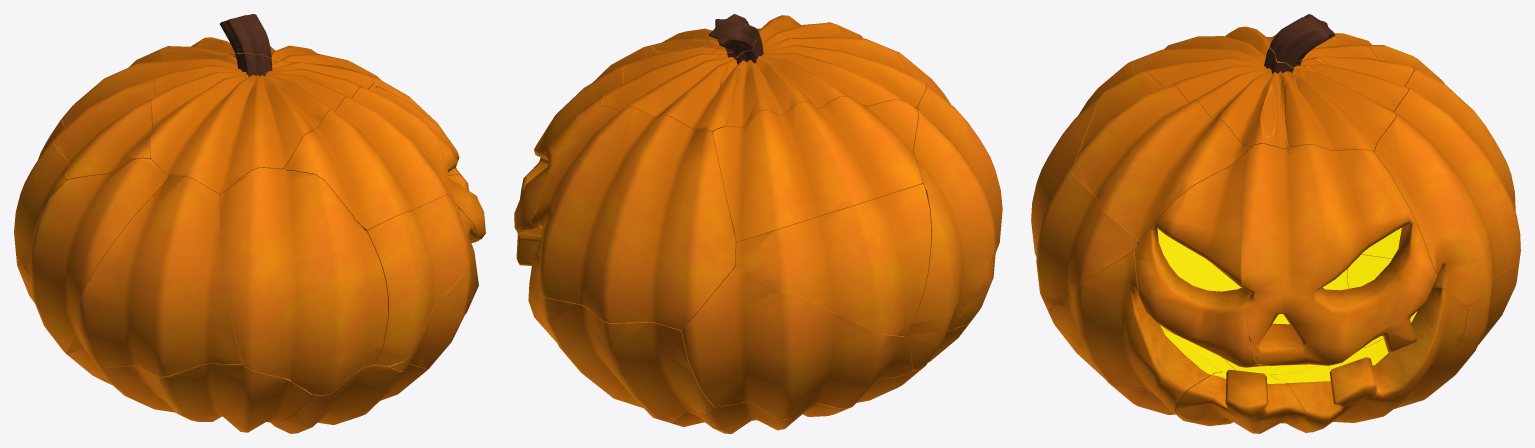
The model's file is Pumpkin_pieces.glb.
The picture shows the model from 3 angles, left to right: view 1: azimuth 30°, elevation 25°; view 2: azimuth 150°, elevation 25°; view 3: azimuth 270°, elevation 25°; orthographic projection. The views are drawn at different scales.
Parts seen in each view (by area): view 1: inner material_cell.005, inner material_cell.020, inner material_cell, inner material_cell.007, inner material_cell.021, inner material_cell.009, inner material_cell.002, inner material_cell.018, inner material_cell.006, inner material_cell.004, inner material_cell.001, inner material_cell.015 (+4 smaller); view 2: inner material_cell.012, inner material_cell.003, inner material_cell.018, inner material_cell.001, inner material_cell, inner material_cell.021, inner material_cell.013, inner material_cell.008, inner material_cell.010, inner material_cell.020, inner material_cell.019, inner material_cell.024 (+5 smaller); view 3: inner material_cell.010, inner material_cell.012, inner material_cell.007, inner material_cell.015, inner material_cell.004, inner material_cell, inner material_cell.016, inner material_cell.008, inner material_cell.009, inner material_cell.017, inner material_cell.005, inner material_cell.013 (+9 smaller).
Part boxes in pixels (x1=…): inner material_cell.005: x1=219, y1=167, x2=387, y2=395; inner material_cell.020: x1=77, y1=176, x2=242, y2=376; inner material_cell: x1=150, y1=55, x2=373, y2=194; inner material_cell.007: x1=283, y1=84, x2=451, y2=230; inner material_cell.021: x1=30, y1=158, x2=169, y2=353; inner material_cell.009: x1=367, y1=195, x2=469, y2=366; inner material_cell.002: x1=66, y1=349, x2=311, y2=432; inner material_cell.018: x1=53, y1=49, x2=162, y2=179; inner material_cell.006: x1=267, y1=364, x2=428, y2=433; inner material_cell.004: x1=389, y1=205, x2=478, y2=371; inner material_cell.001: x1=14, y1=119, x2=69, y2=278; inner material_cell.015: x1=376, y1=86, x2=485, y2=242; inner material_cell.012: x1=530, y1=105, x2=737, y2=329; inner material_cell.003: x1=681, y1=265, x2=912, y2=419; inner material_cell.018: x1=712, y1=96, x2=922, y2=241; inner material_cell.001: x1=735, y1=184, x2=931, y2=336; inner material_cell: x1=645, y1=19, x2=926, y2=127; inner material_cell.021: x1=899, y1=108, x2=994, y2=370; inner material_cell.013: x1=541, y1=295, x2=713, y2=423; inner material_cell.008: x1=602, y1=46, x2=737, y2=133; inner material_cell.010: x1=514, y1=45, x2=649, y2=230; inner material_cell.020: x1=916, y1=85, x2=1002, y2=330; inner material_cell.019: x1=672, y1=402, x2=835, y2=433; inner material_cell.024: x1=709, y1=14, x2=760, y2=56; inner material_cell.010: x1=1241, y1=143, x2=1437, y2=365; inner material_cell.012: x1=1374, y1=69, x2=1520, y2=308; inner material_cell.007: x1=1069, y1=70, x2=1250, y2=240; inner material_cell.015: x1=1134, y1=151, x2=1257, y2=367; inner material_cell.004: x1=1048, y1=251, x2=1221, y2=413; inner material_cell: x1=1133, y1=26, x2=1378, y2=148; inner material_cell.016: x1=1269, y1=287, x2=1467, y2=432; inner material_cell.008: x1=1284, y1=56, x2=1414, y2=151; inner material_cell.009: x1=1036, y1=169, x2=1138, y2=310; inner material_cell.017: x1=1176, y1=369, x2=1306, y2=433; inner material_cell.005: x1=1031, y1=60, x2=1134, y2=256; inner material_cell.013: x1=1364, y1=258, x2=1519, y2=408.
Size of the model in its own units: 1.8 by 1.55 by 1.8.
2 materials, 1 textured.
